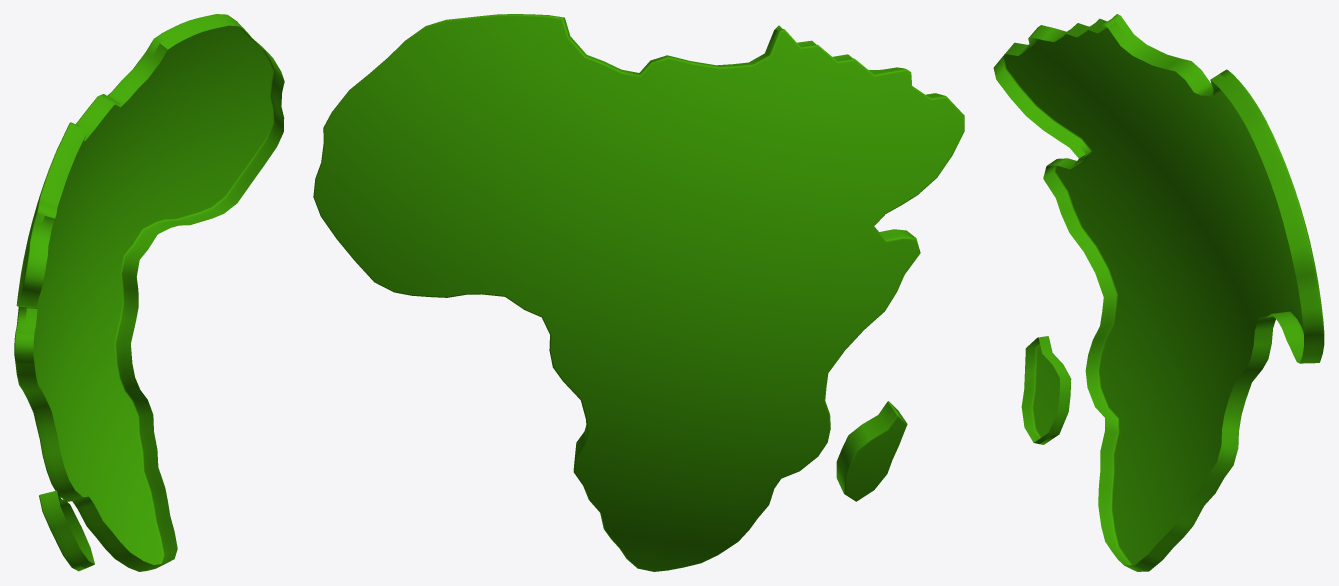
3 renders of one model, left to right at view 1: azimuth 30°, elevation 25°; view 2: azimuth 150°, elevation 25°; view 3: azimuth 270°, elevation 25°, orthographic. The views are drawn at different scales.
Parts seen in each view (by area): view 1: c1; view 2: c1; view 3: c1.
Boxes of the visible parts, x1,y1,x2,y2 form: c1: (14,14,284,571); c1: (313,14,964,571); c1: (993,14,1324,571).
Bounding box in the file's own units: 0.8595 × 1 × 0.5768.
